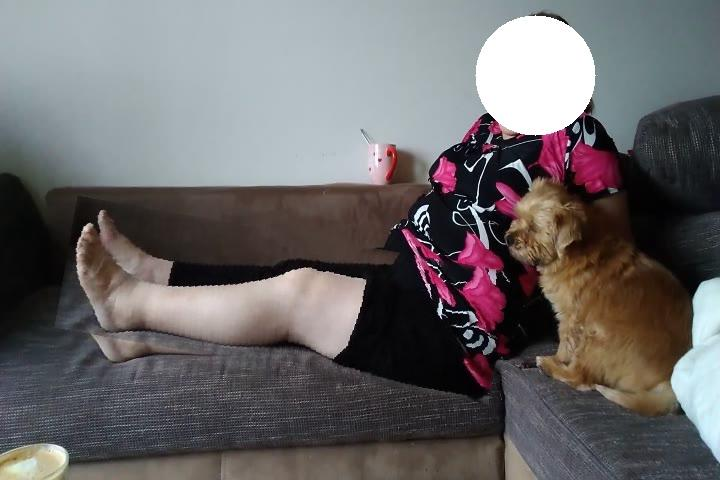lowerbody: (59, 216, 508, 387)
